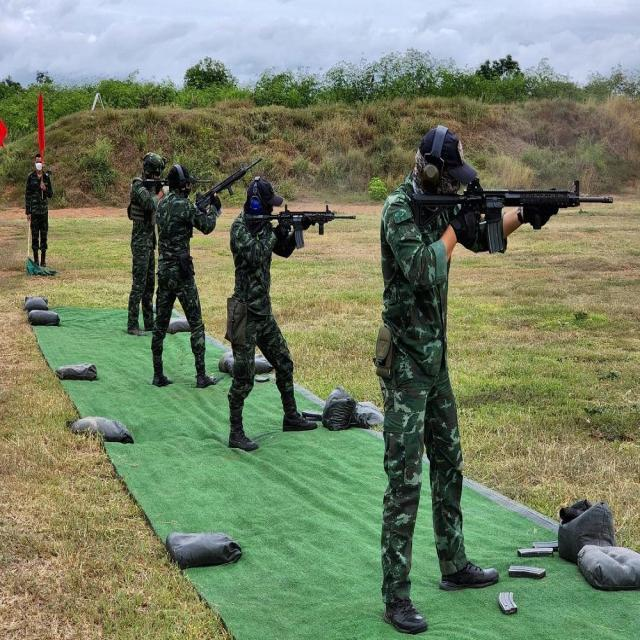Rifle: (411, 180, 614, 254), (244, 212, 356, 249), (195, 160, 262, 213)
